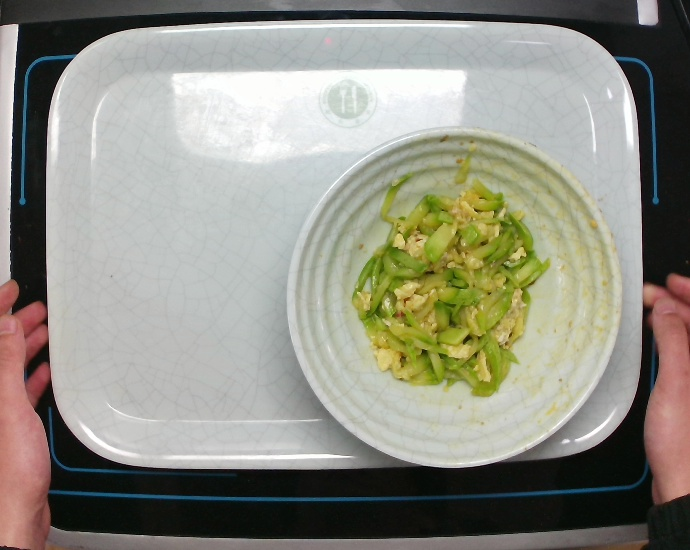JYsf-Da_Tang_Wan: (277, 125, 625, 485)
